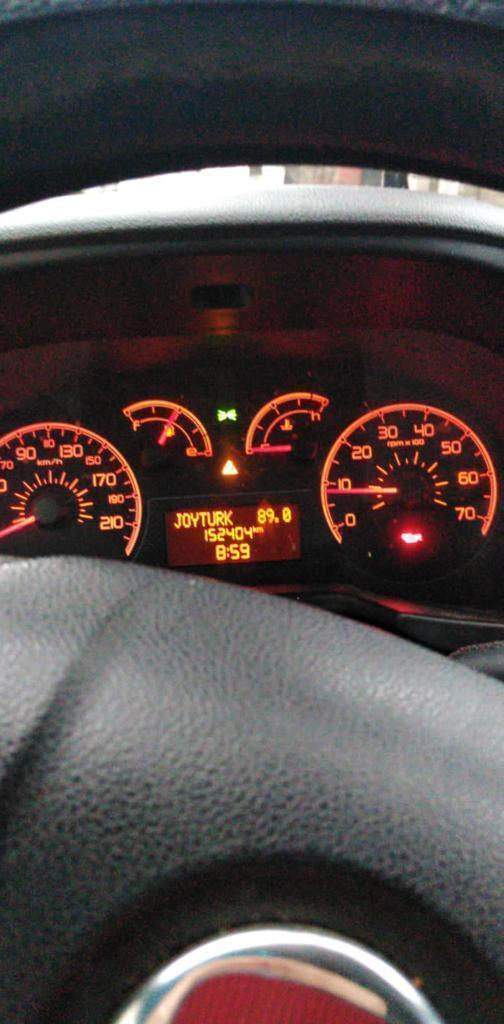,: (274, 516, 279, 525)
0: (281, 506, 292, 524), (235, 525, 243, 541)
1: (203, 528, 207, 543)
2: (218, 527, 225, 541)
4: (226, 527, 235, 541), (244, 525, 252, 539)
5: (229, 543, 239, 560), (208, 527, 217, 542)
8: (214, 544, 225, 560), (256, 508, 266, 523)
9: (239, 543, 249, 559), (266, 506, 274, 523)
X: (172, 511, 181, 530), (224, 510, 234, 526), (190, 511, 199, 528), (206, 510, 215, 527), (215, 509, 224, 526), (182, 511, 190, 528), (199, 510, 206, 527), (226, 546, 230, 558), (253, 524, 257, 533), (257, 526, 262, 533)
odometer: (162, 502, 305, 567)
